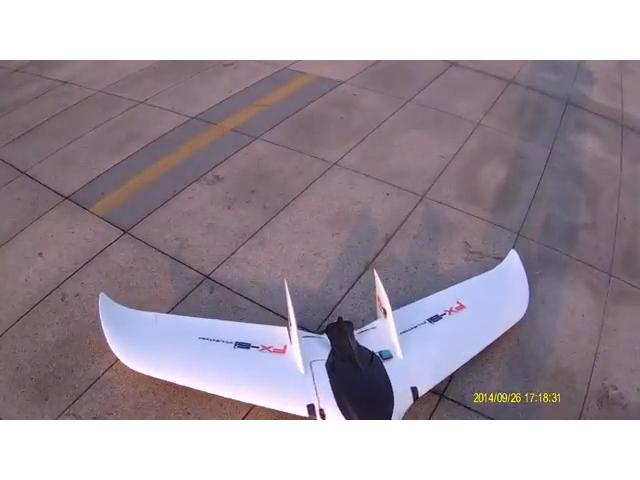Anti-Drone: (69, 242, 553, 420)
